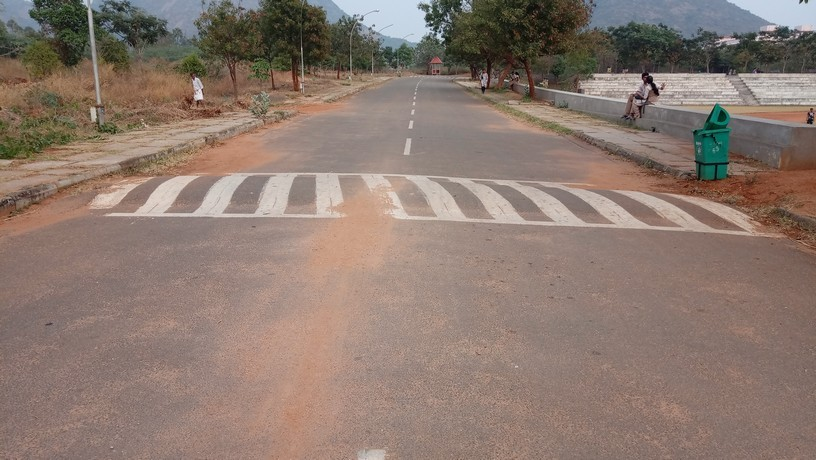bump: (38, 171, 785, 226)
